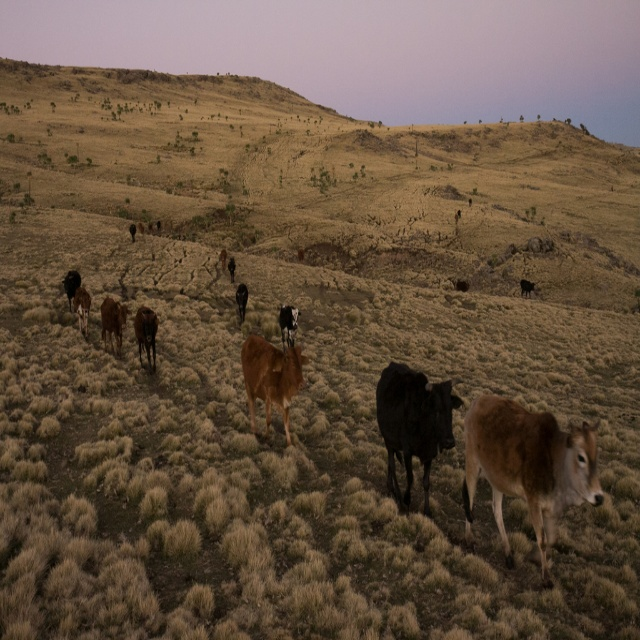Cattle: (62, 198, 604, 589)
